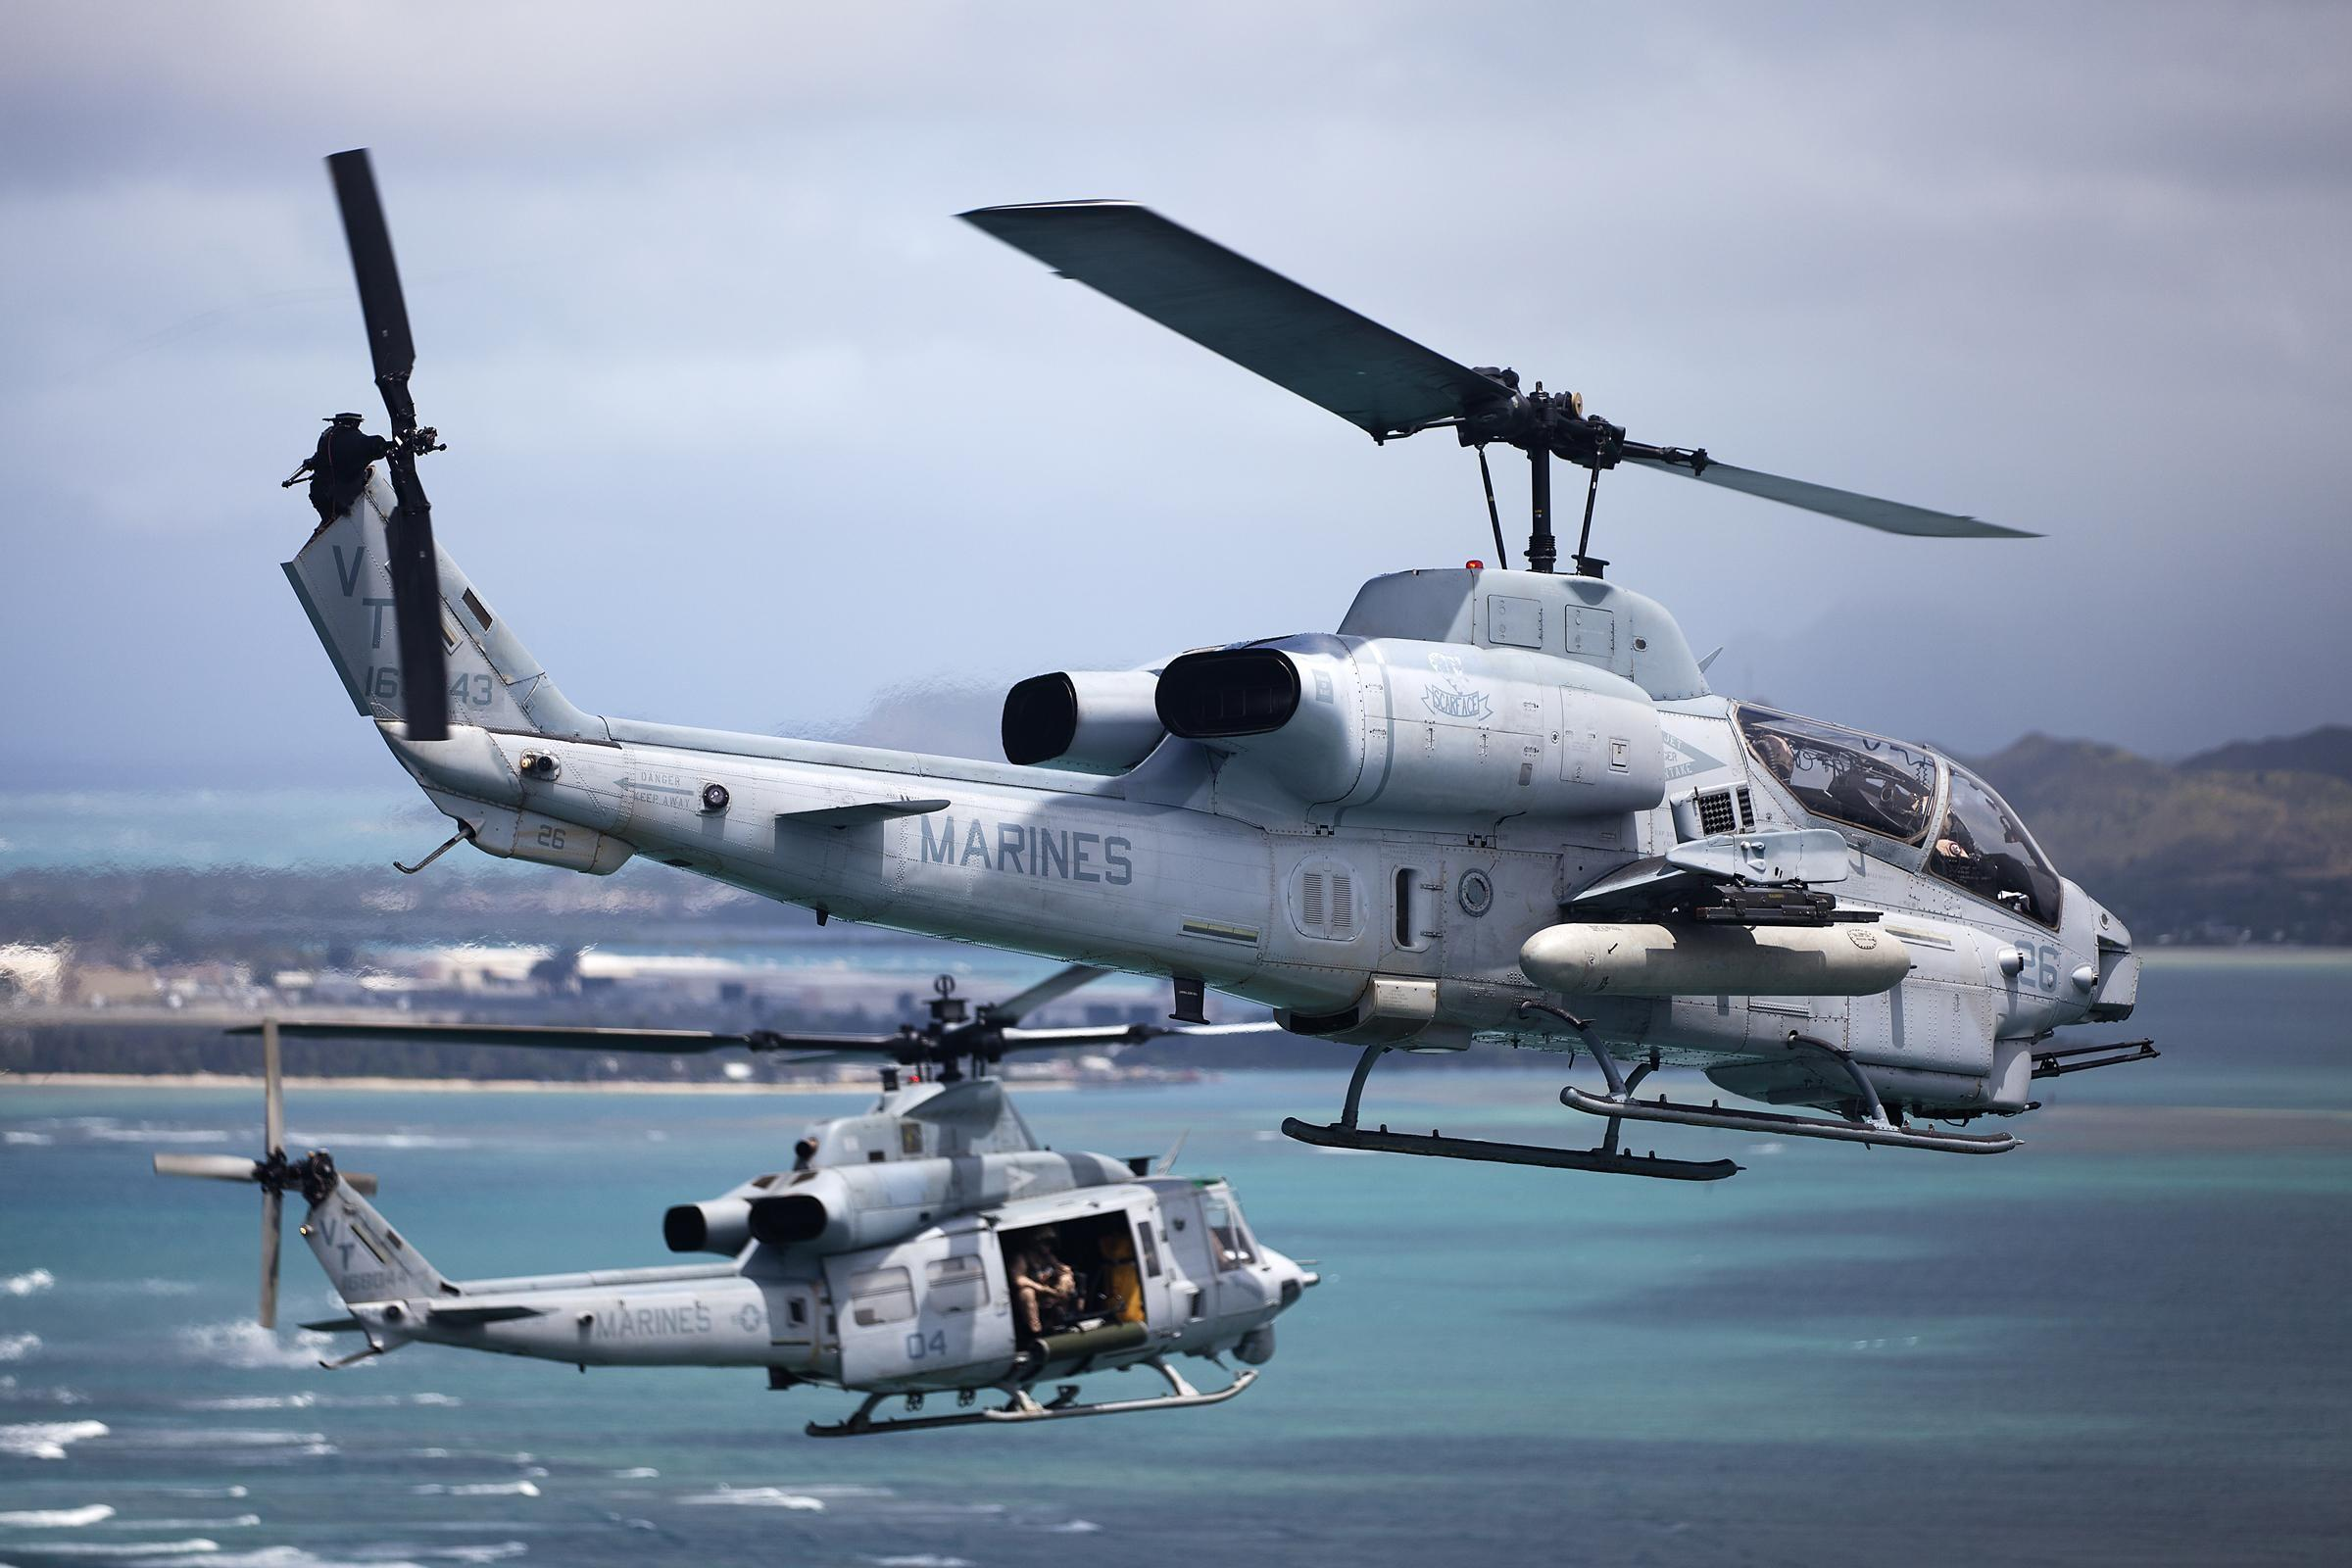MilitaryHelicopter: (182, 208, 2284, 1122), (128, 1141, 1411, 1438)
